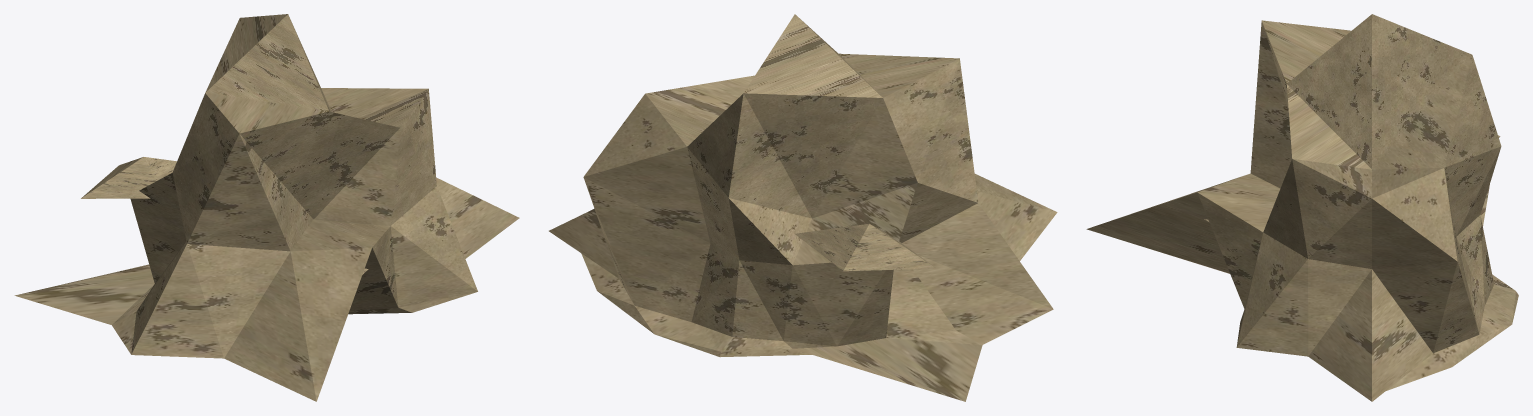
File: ae_battle_rock_small_lod0.glb
The picture shows the model from 3 angles, left to right: view 1: azimuth 30°, elevation 25°; view 2: azimuth 150°, elevation 25°; view 3: azimuth 270°, elevation 25°; orthographic projection. The views are drawn at different scales.
Parts seen in each view (by area): view 1: ae_battle_rock_small_lod0; view 2: ae_battle_rock_small_lod0; view 3: ae_battle_rock_small_lod0.
Boxes of the visible parts, x1,y1,x2,y2 form: ae_battle_rock_small_lod0: [14, 14, 519, 401]; ae_battle_rock_small_lod0: [549, 14, 1057, 401]; ae_battle_rock_small_lod0: [1086, 14, 1518, 401].
Size of the model in its own units: 4.21 by 2.43 by 3.38.
1 material, 1 textured.
